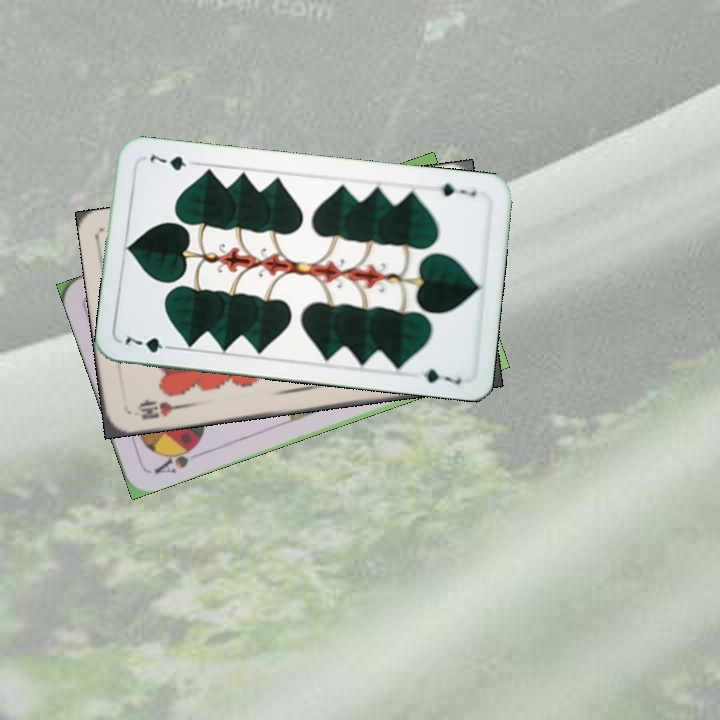G7: (121, 330, 178, 356), (428, 179, 479, 199)
H10: (133, 396, 186, 423)
SA: (150, 439, 204, 477)
